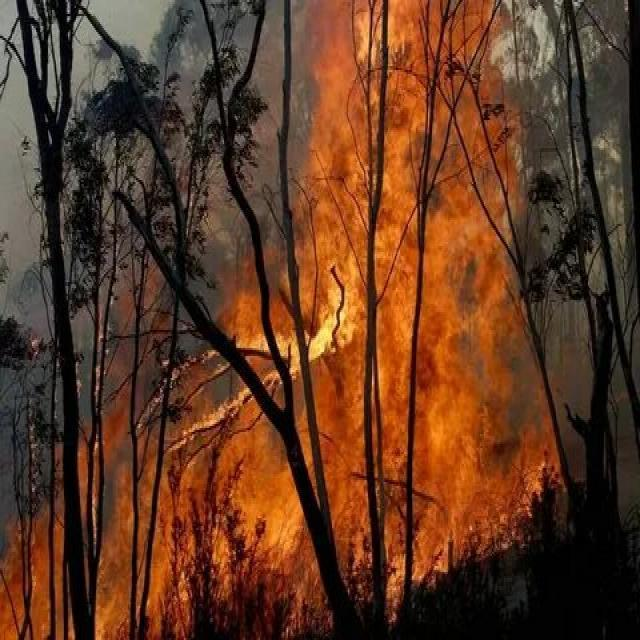Fire: (204, 139, 471, 603)
